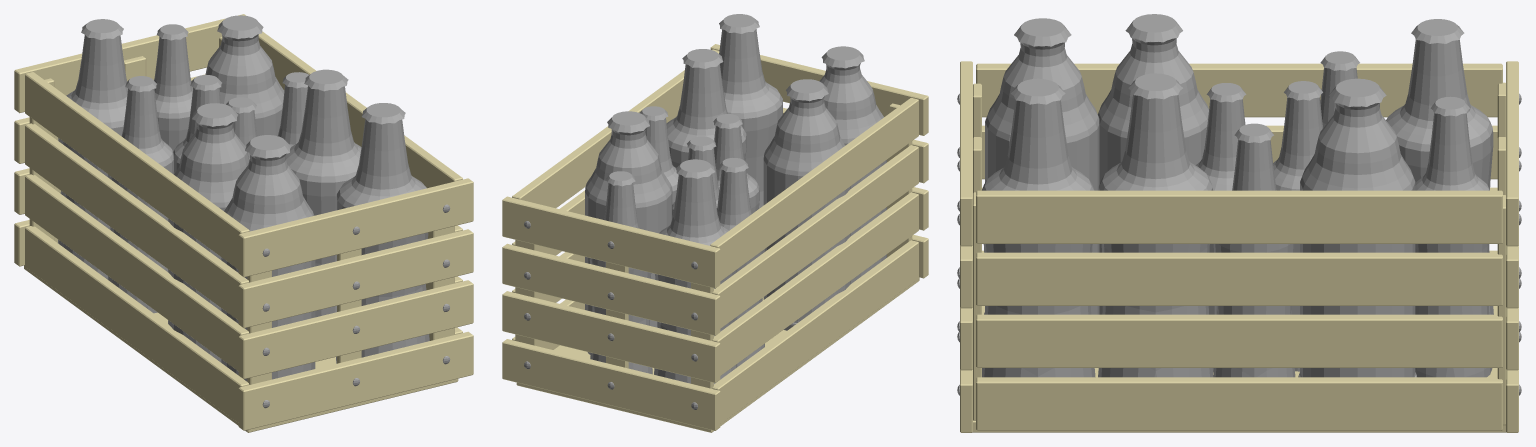
The model's file is beer_box.fbx.
The picture shows the model from 3 angles, left to right: view 1: azimuth 30°, elevation 25°; view 2: azimuth 150°, elevation 25°; view 3: azimuth 270°, elevation 25°; orthographic projection. The views are drawn at different scales.
Parts seen in each view (by area): view 1: beer_box; view 2: beer_box; view 3: beer_box.
Part boxes in pixels (x1=…): beer_box: x1=14, y1=14, x2=473, y2=432; beer_box: x1=502, y1=14, x2=928, y2=432; beer_box: x1=957, y1=14, x2=1521, y2=432.
Size of the model in its own units: 1.08 by 1.17 by 1.88.
